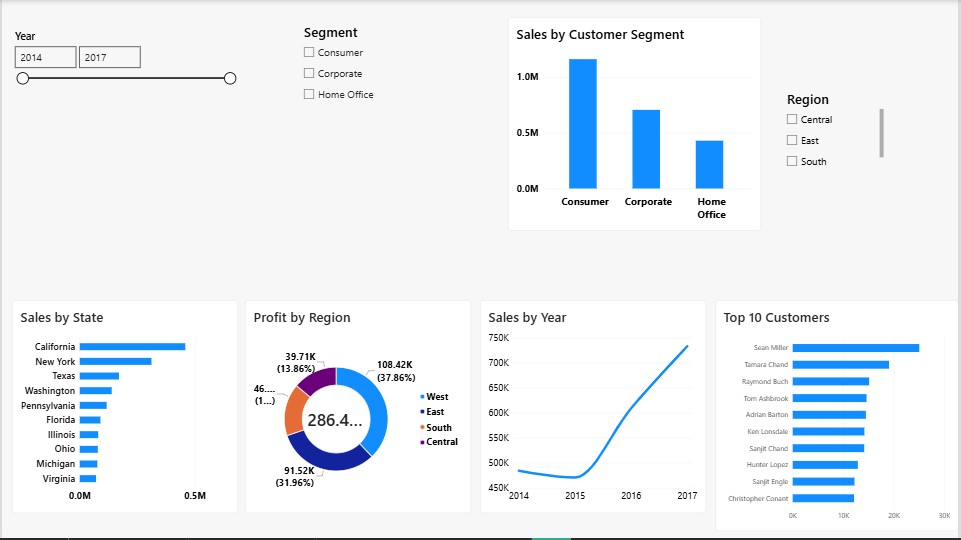

Layout of this report page (visuals, bound fields, positions):
{"tool":"powerbi","page":{"name":"Regional and Customer Analysis","canvas":[1920,1080],"ordinal":2},"visuals":[{"type":"clusteredBarChart","title":"Sales by State","fields":{"Category":["Orders.State"],"Y":["Calendar.Total Sales"]},"box":[20,602,453.8,428.1],"z":0},{"type":"donutChart","title":"Profit by Region","fields":{"Category":["Orders.Region"],"Y":["Calendar.Total Profit"]},"box":[488,602,454,428],"z":1000},{"type":"clusteredColumnChart","title":"Sales by  Customer Segment","fields":{"Category":["Orders.Segment"],"Y":["Calendar.Total Sales"]},"box":[1016.6,34.2,508.3,429.3],"z":2000},{"type":"lineChart","title":"Sales by Year","fields":{"Category":["Calendar.Year"],"Y":["Calendar.Total Sales"]},"box":[960,602,454,428],"z":2001},{"type":"slicer","fields":{"Values":["Calendar.Year"]},"box":[17.1,57.8,455.9,190.5],"z":2002},{"type":"slicer","fields":{"Values":["Orders.Region"]},"box":[1567.8,180.7,202,166],"z":2003},{"type":"slicer","fields":{"Values":["Orders.Segment"]},"box":[598,46,236,172],"z":2004},{"type":"clusteredBarChart","title":"Top 10 Customers","fields":{"Category":["Orders.Customer Name"],"Y":["Calendar.Total Sales"]},"box":[1430.5,601.3,489.5,464.2],"z":2005}]}

Visuals, with their boxes in screenshot pixels (x1, y1, x2, y2), scaled from the page's 1920x1080 canvas onto the 961x540 screenshot:
"Sales by State" clusteredBarChart: box(10, 301, 237, 515)
"Profit by Region" donutChart: box(244, 301, 471, 515)
"Sales by  Customer Segment" clusteredColumnChart: box(509, 17, 763, 232)
"Sales by Year" lineChart: box(480, 301, 708, 515)
slicer - Calendar.Year: box(9, 29, 237, 124)
slicer - Orders.Region: box(785, 90, 886, 173)
slicer - Orders.Segment: box(299, 23, 417, 109)
"Top 10 Customers" clusteredBarChart: box(716, 301, 960, 533)
